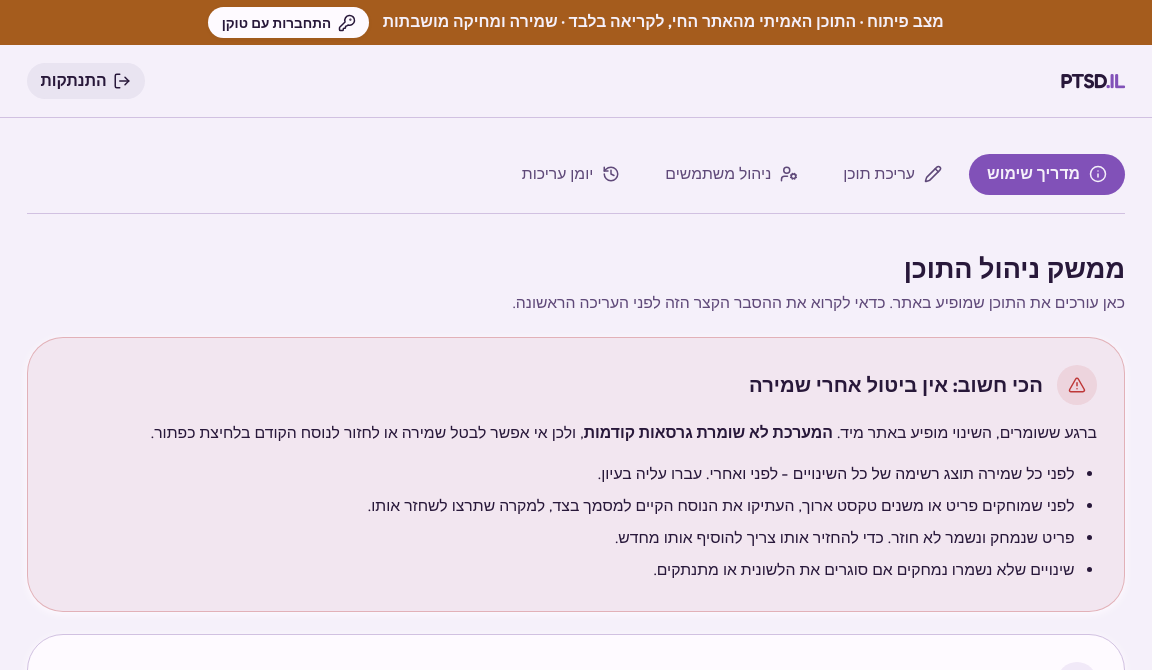
Test case: admin: frame and home page › picks the content language once, at the top, not per panel
Click the button "עריכת תוכן". click: {"x": 893, "y": 174}
box: [825,154,960,194]
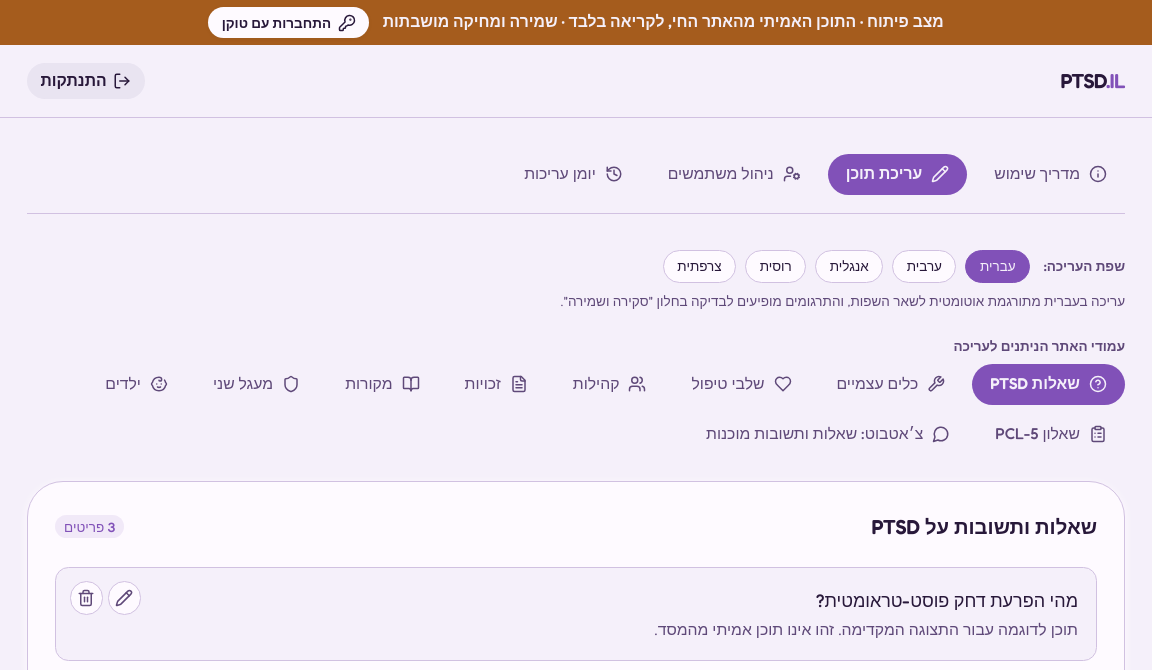
Check: the text "מהי הפרעת דחק פוסט-טראומטית?" is shown, box [816,589,1078,611]
Click the button "שלבי טיפול". click: {"x": 742, "y": 384}
box: [674,364,810,404]
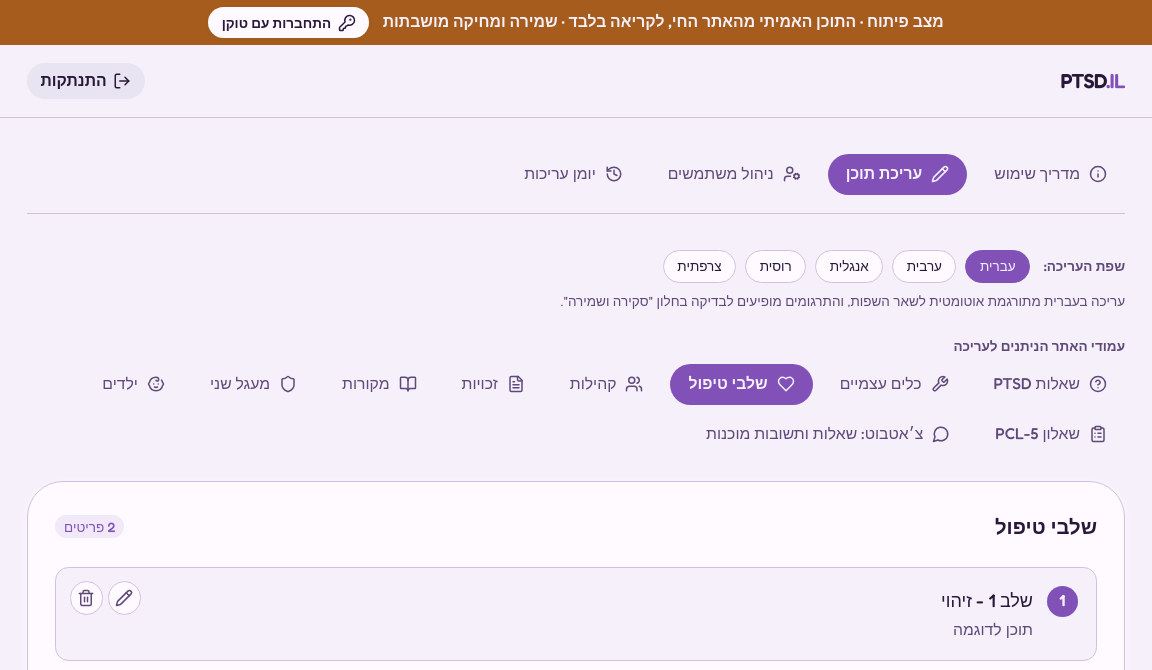
Check: the text "שלב 1 - זיהוי" is shown, box [941,589,1033,611]
